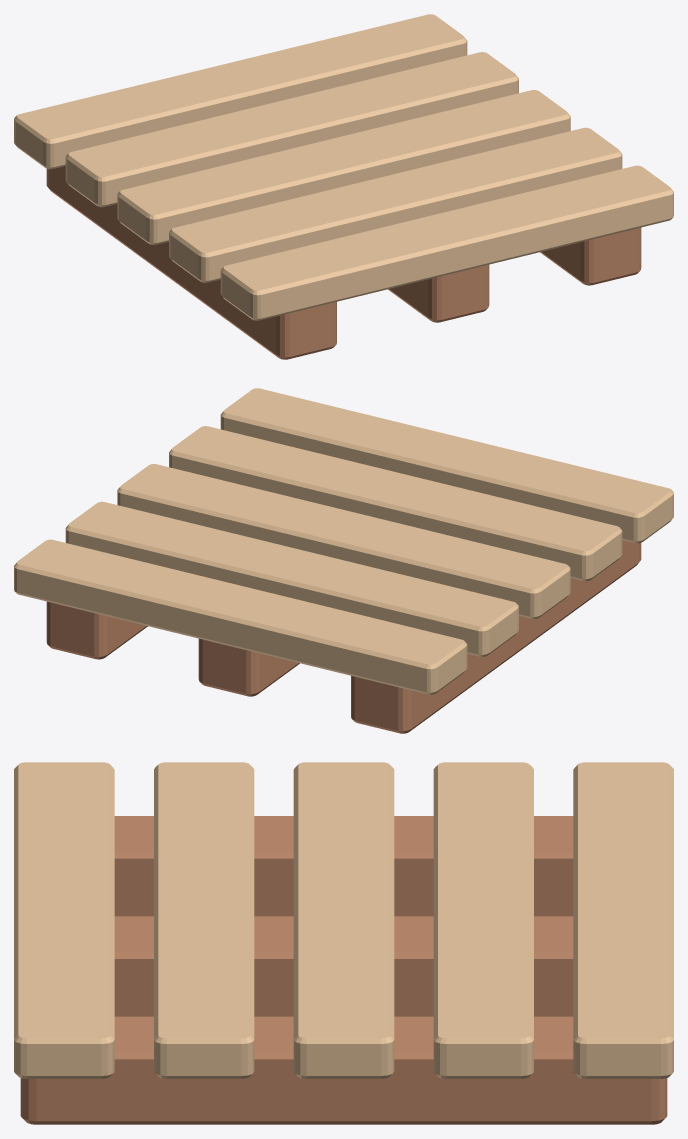
Rendered from pallet.glb.
3 renders of one model, top to bottom at view 1: azimuth 30°, elevation 25°; view 2: azimuth 150°, elevation 25°; view 3: azimuth 270°, elevation 25°, orthographic. The views are drawn at different scales.
Visible parts, largest first — view 1: model; view 2: model; view 3: model.
Boxes of the visible parts, x1,y1,x2,y2 form: model: (14,14,673,359); model: (14,388,673,733); model: (14,762,673,1124).
Size of the model in its own units: 0.9 by 0.16 by 0.9.
